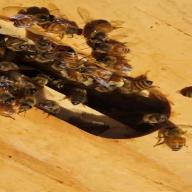Bee: (85, 14, 133, 58), (148, 115, 190, 154), (32, 97, 76, 116)
